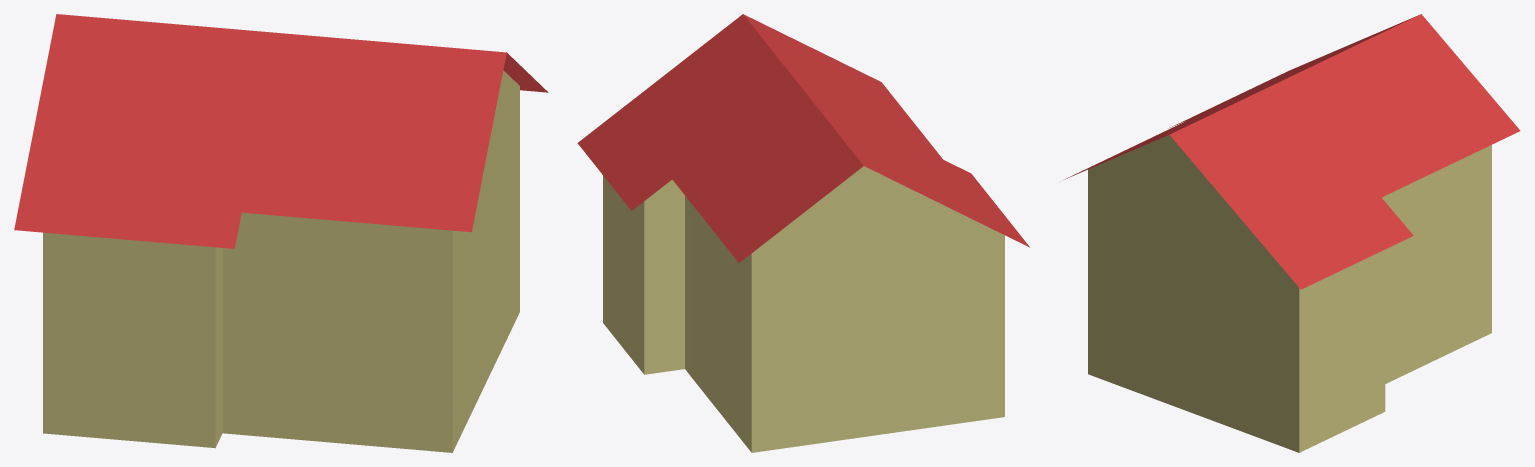
3 renders of one model, left to right at view 1: azimuth 30°, elevation 25°; view 2: azimuth 150°, elevation 25°; view 3: azimuth 270°, elevation 25°, orthographic. The views are drawn at different scales.
Bounding box in the file's own units: 19.13 × 17.02 × 11.45.
